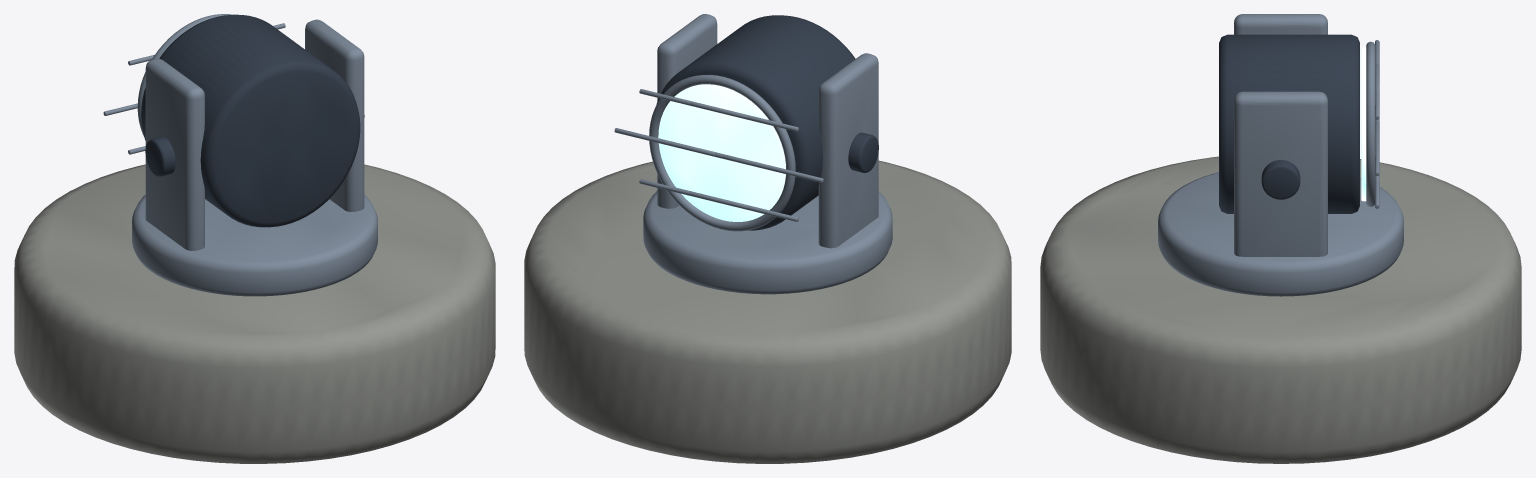
The model's file is searchlight_emplacement.glb.
3 views of the same model, side by side, from view 1: azimuth 30°, elevation 25°; view 2: azimuth 150°, elevation 25°; view 3: azimuth 270°, elevation 25° (orthographic).
Parts seen in each view (by area): view 1: ASSET_searchlight_emplacement; view 2: ASSET_searchlight_emplacement; view 3: ASSET_searchlight_emplacement.
Boxes of the visible parts, box(x1,y1,x2,y2) form: ASSET_searchlight_emplacement: box(14, 14, 495, 463); ASSET_searchlight_emplacement: box(524, 14, 1011, 463); ASSET_searchlight_emplacement: box(1040, 14, 1521, 463).
Bounding box in the file's own units: 4.5 × 3.39 × 4.5.
